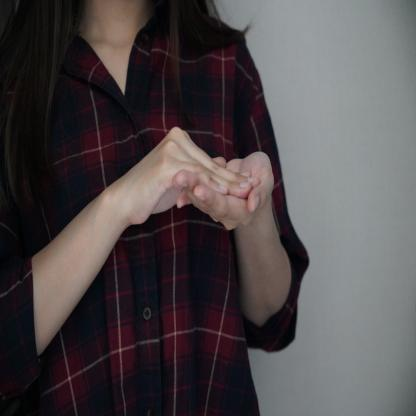Love: (99, 112, 285, 261)
